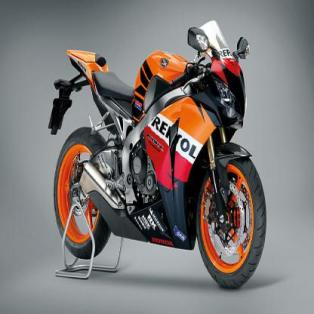Motocicleta: (47, 12, 269, 291)
